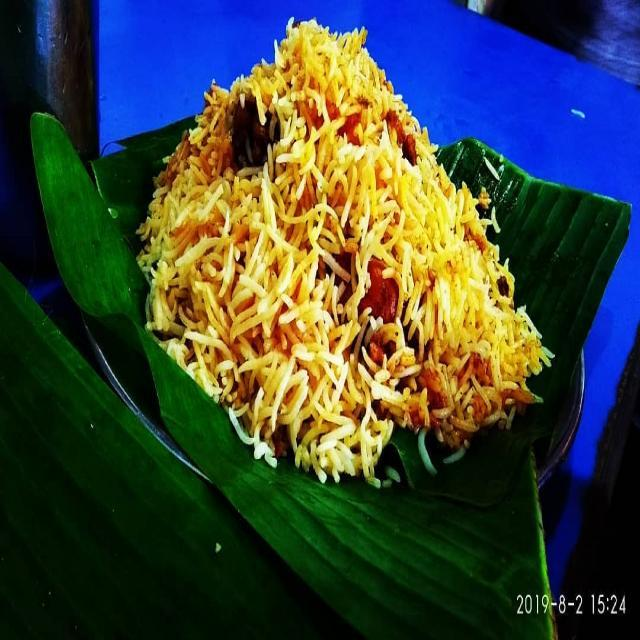biryani: (143, 16, 537, 539), (142, 13, 526, 519)
